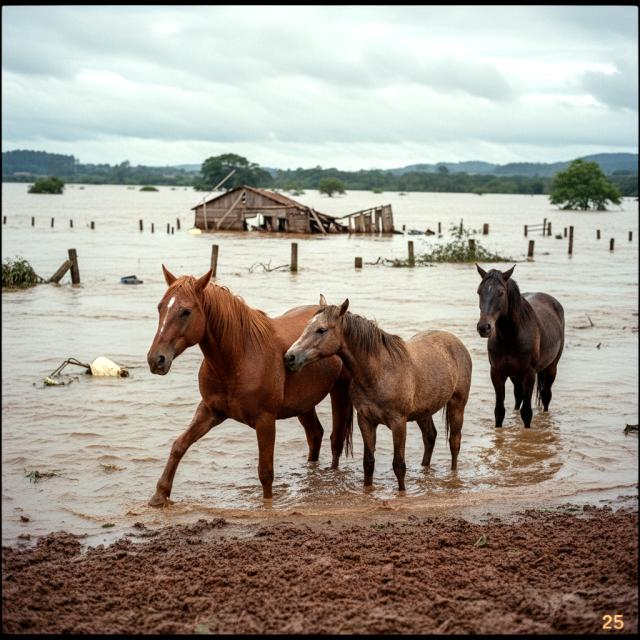horse: (142, 256, 362, 512), (281, 287, 476, 501), (468, 259, 572, 431)
